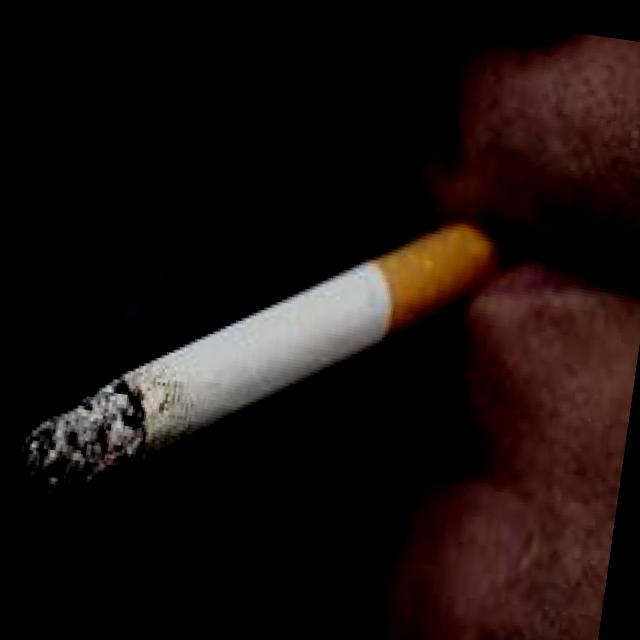cigarette: (9, 127, 518, 570)
